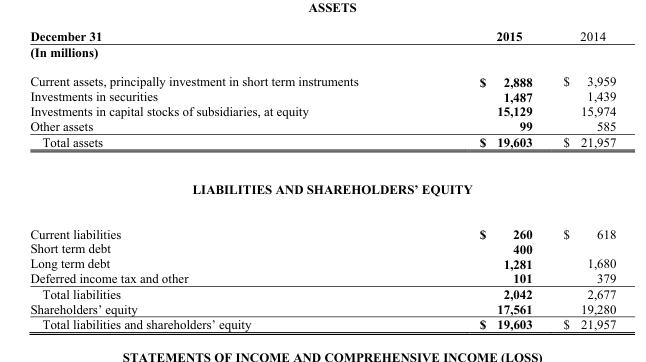table: (29, 28, 615, 331)
table column: (29, 28, 418, 331), (418, 28, 547, 331), (547, 28, 615, 331)
table column header: (29, 28, 615, 43)
table projected row header: (29, 165, 615, 211), (29, 43, 615, 66)
table row: (29, 165, 615, 211), (29, 133, 615, 165), (29, 211, 615, 240), (29, 43, 615, 66), (29, 66, 615, 88), (29, 300, 615, 316), (29, 28, 615, 43), (29, 88, 615, 103), (29, 103, 615, 118), (29, 118, 615, 133), (29, 240, 615, 255), (29, 255, 615, 270), (29, 270, 615, 285), (29, 285, 615, 300), (29, 316, 615, 331)
